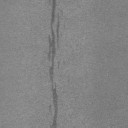red iron: (48, 0, 60, 128), (58, 61, 61, 68)
